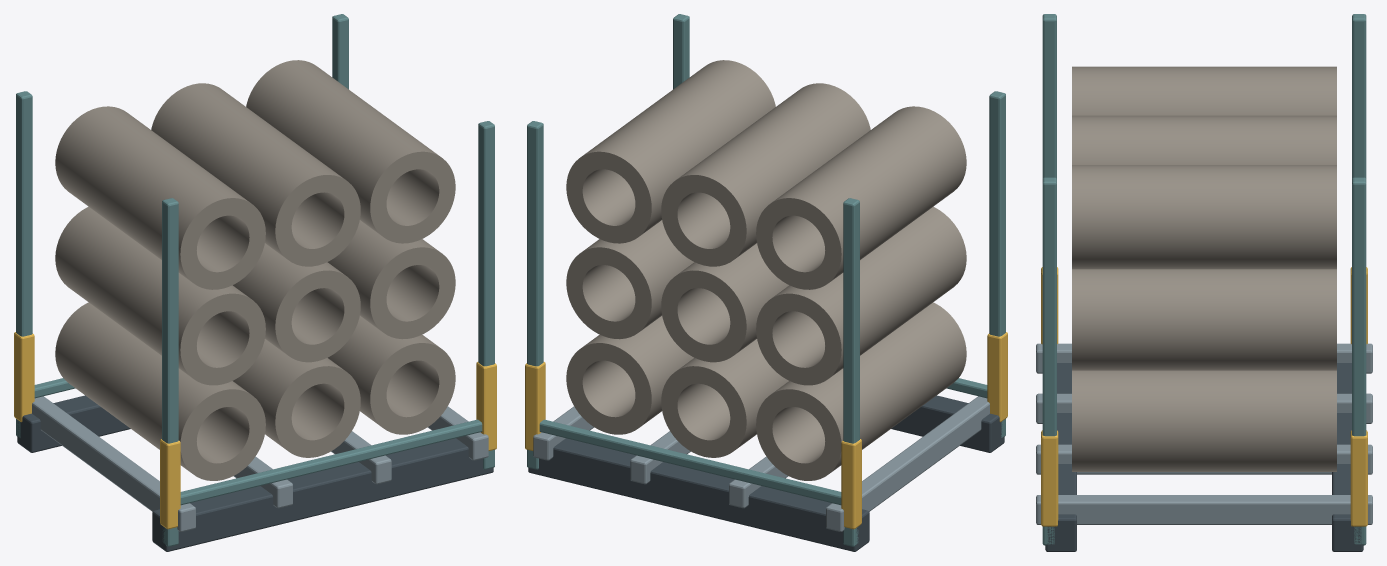
Rendered from pit_cad_stock_rack_v1.glb.
The picture shows the model from 3 angles, left to right: view 1: azimuth 30°, elevation 25°; view 2: azimuth 150°, elevation 25°; view 3: azimuth 270°, elevation 25°; orthographic projection. The views are drawn at different scales.
Visible parts, largest first — view 1: pit_cad_stock_rack_v1_heat_treated_rings, pit_cad_stock_rack_v1_painted_equipment_teal, pit_cad_stock_rack_v1_recessed_steel, pit_cad_stock_rack_v1_galvanized_structural_steel, pit_cad_stock_rack_v1_safety_ochre; view 2: pit_cad_stock_rack_v1_heat_treated_rings, pit_cad_stock_rack_v1_painted_equipment_teal, pit_cad_stock_rack_v1_recessed_steel, pit_cad_stock_rack_v1_galvanized_structural_steel, pit_cad_stock_rack_v1_safety_ochre; view 3: pit_cad_stock_rack_v1_heat_treated_rings, pit_cad_stock_rack_v1_painted_equipment_teal, pit_cad_stock_rack_v1_galvanized_structural_steel, pit_cad_stock_rack_v1_recessed_steel, pit_cad_stock_rack_v1_safety_ochre.
Boxes of the visible parts, bbox=[...] form: pit_cad_stock_rack_v1_heat_treated_rings: bbox=[55, 60, 455, 480]; pit_cad_stock_rack_v1_painted_equipment_teal: bbox=[16, 14, 494, 546]; pit_cad_stock_rack_v1_recessed_steel: bbox=[17, 395, 493, 551]; pit_cad_stock_rack_v1_galvanized_structural_steel: bbox=[32, 396, 488, 531]; pit_cad_stock_rack_v1_safety_ochre: bbox=[14, 332, 496, 529]; pit_cad_stock_rack_v1_heat_treated_rings: bbox=[566, 60, 966, 480]; pit_cad_stock_rack_v1_painted_equipment_teal: bbox=[527, 14, 1005, 546]; pit_cad_stock_rack_v1_recessed_steel: bbox=[528, 395, 1004, 551]; pit_cad_stock_rack_v1_galvanized_structural_steel: bbox=[533, 396, 989, 531]; pit_cad_stock_rack_v1_safety_ochre: bbox=[525, 332, 1007, 529]; pit_cad_stock_rack_v1_heat_treated_rings: bbox=[1072, 66, 1336, 471]; pit_cad_stock_rack_v1_painted_equipment_teal: bbox=[1042, 14, 1366, 545]; pit_cad_stock_rack_v1_galvanized_structural_steel: bbox=[1036, 343, 1372, 524]; pit_cad_stock_rack_v1_recessed_steel: bbox=[1045, 363, 1363, 551]; pit_cad_stock_rack_v1_safety_ochre: bbox=[1041, 267, 1367, 526].
Size of the model in its own units: 2.82 by 2.85 by 2.35.
